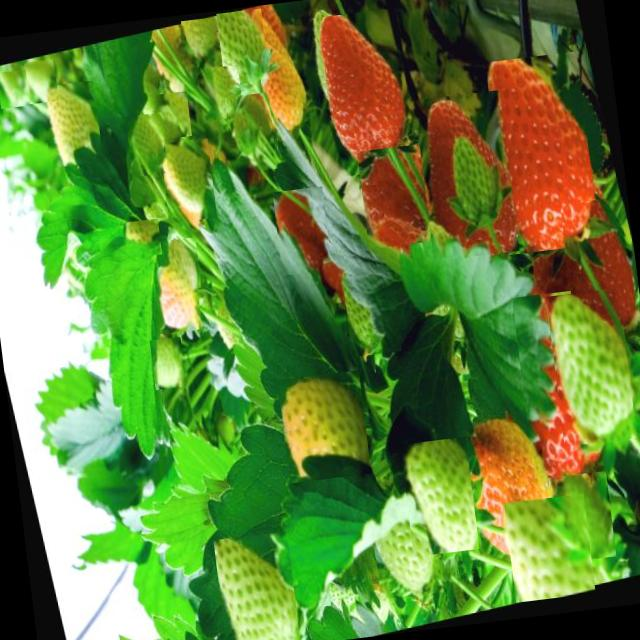ripe: (485, 51, 600, 254), (310, 8, 416, 178), (414, 89, 519, 260), (512, 290, 600, 491), (560, 195, 640, 342), (357, 144, 435, 248), (272, 186, 332, 274), (320, 252, 350, 304)
unripe: (546, 288, 636, 447), (278, 370, 372, 482), (504, 493, 596, 602), (213, 530, 300, 640), (400, 436, 479, 556), (370, 504, 438, 598), (548, 470, 616, 563), (40, 80, 103, 168), (216, 8, 272, 102), (342, 271, 401, 356), (160, 137, 217, 222), (225, 92, 278, 174), (152, 265, 202, 334), (125, 112, 168, 177), (145, 24, 190, 80), (160, 236, 201, 292), (206, 64, 244, 120), (180, 16, 222, 65), (149, 336, 186, 389), (154, 90, 192, 140), (122, 218, 162, 258), (24, 58, 59, 103), (0, 69, 29, 108), (211, 414, 237, 443)
